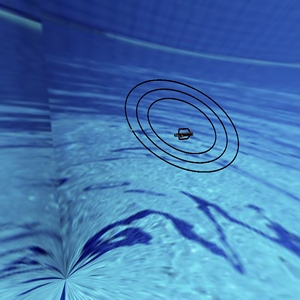circle: (111, 66, 252, 184)
submarine: (171, 116, 196, 147)
